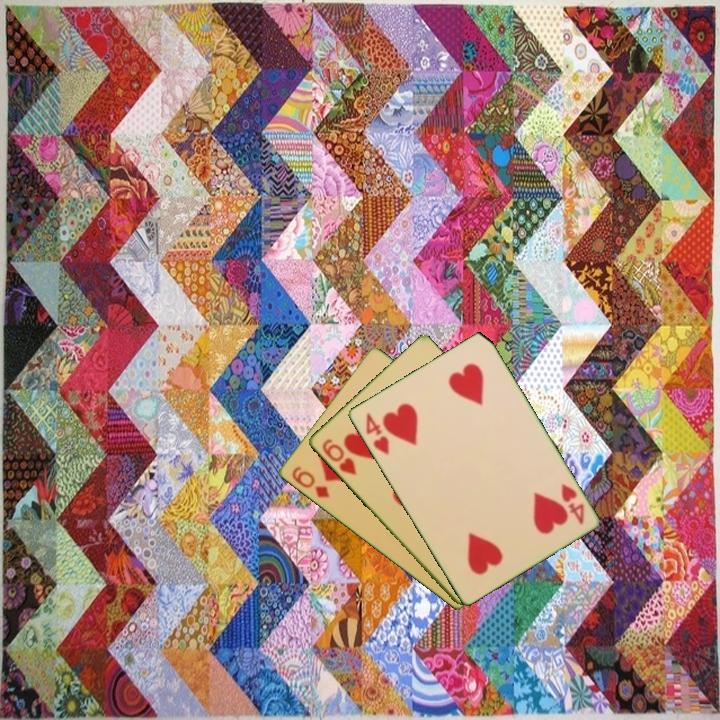4h: (362, 409, 392, 458), (557, 480, 587, 528)
6d: (288, 463, 332, 501)
6h: (318, 435, 359, 478)
